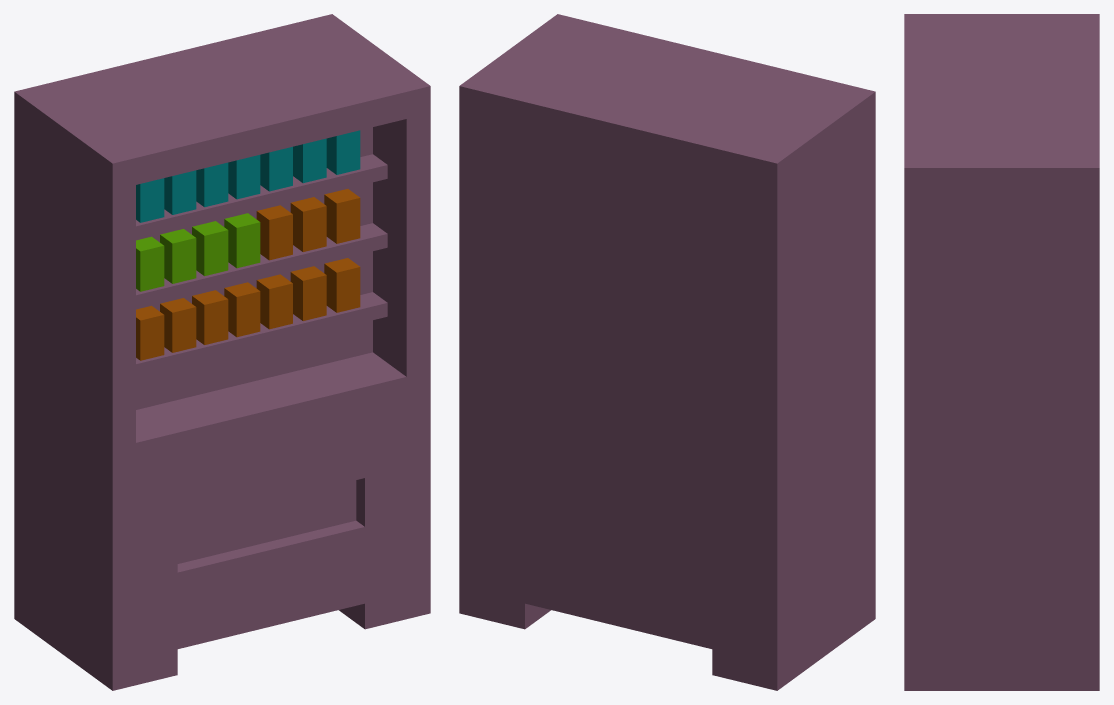
Rendered from vending.fbx.
3 renders of one model, left to right at view 1: azimuth 30°, elevation 25°; view 2: azimuth 150°, elevation 25°; view 3: azimuth 270°, elevation 25°, orthographic.
Parts seen in each view (by area): view 1: pCube1, pasted__pasted__pCube3 (×12), pasted__pCube3 (×8), pasted__pCube2 (×2), pCube2, pCube3; view 2: pCube1; view 3: pCube1.
Boxes of the visible parts, x1=… form: pCube1: x1=14, y1=14, x2=430, y2=690; pasted__pasted__pCube3 (×12): x1=160, y1=130, x2=360, y2=283; pasted__pCube3 (×8): x1=136, y1=178, x2=360, y2=352; pasted__pCube2 (×2): x1=136, y1=154, x2=387, y2=308; pCube2: x1=136, y1=292, x2=387, y2=377; pCube3: x1=136, y1=305, x2=164, y2=360; pCube1: x1=459, y1=14, x2=875, y2=690; pCube1: x1=904, y1=14, x2=1099, y2=690.
Size of the model in its own units: 9.27 by 14.68 by 4.97.
